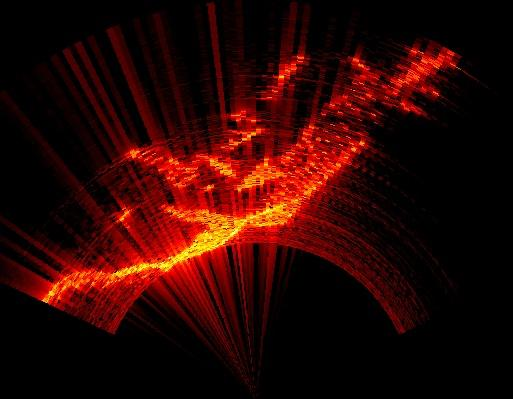shipwreck: (49, 53, 454, 303)
